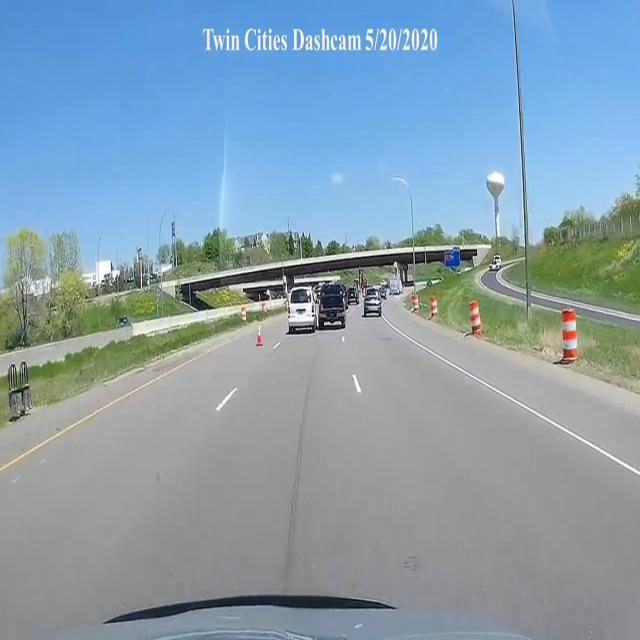cone: (255, 323, 265, 345)
